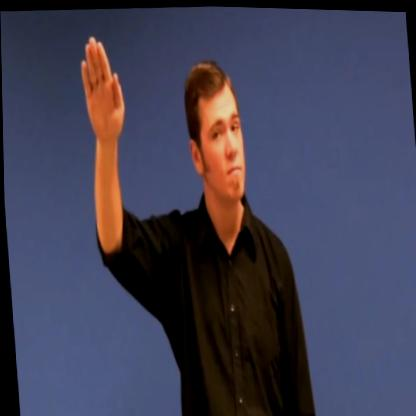Hello: (77, 25, 260, 278)
